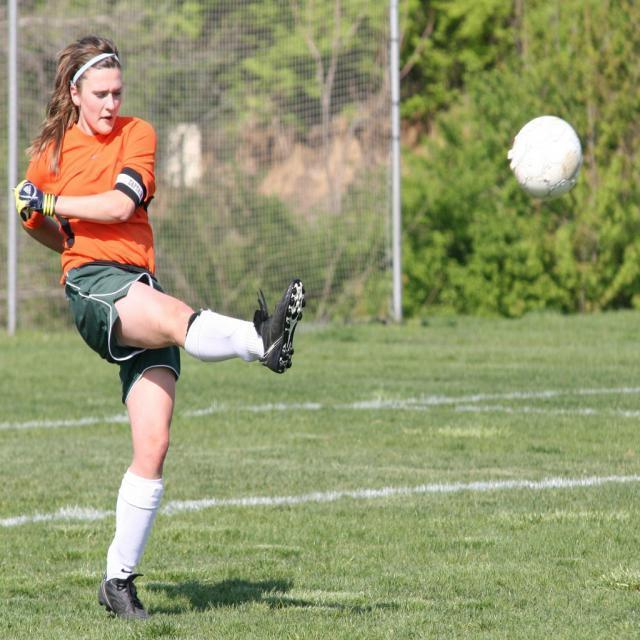ball: (508, 115, 585, 201)
